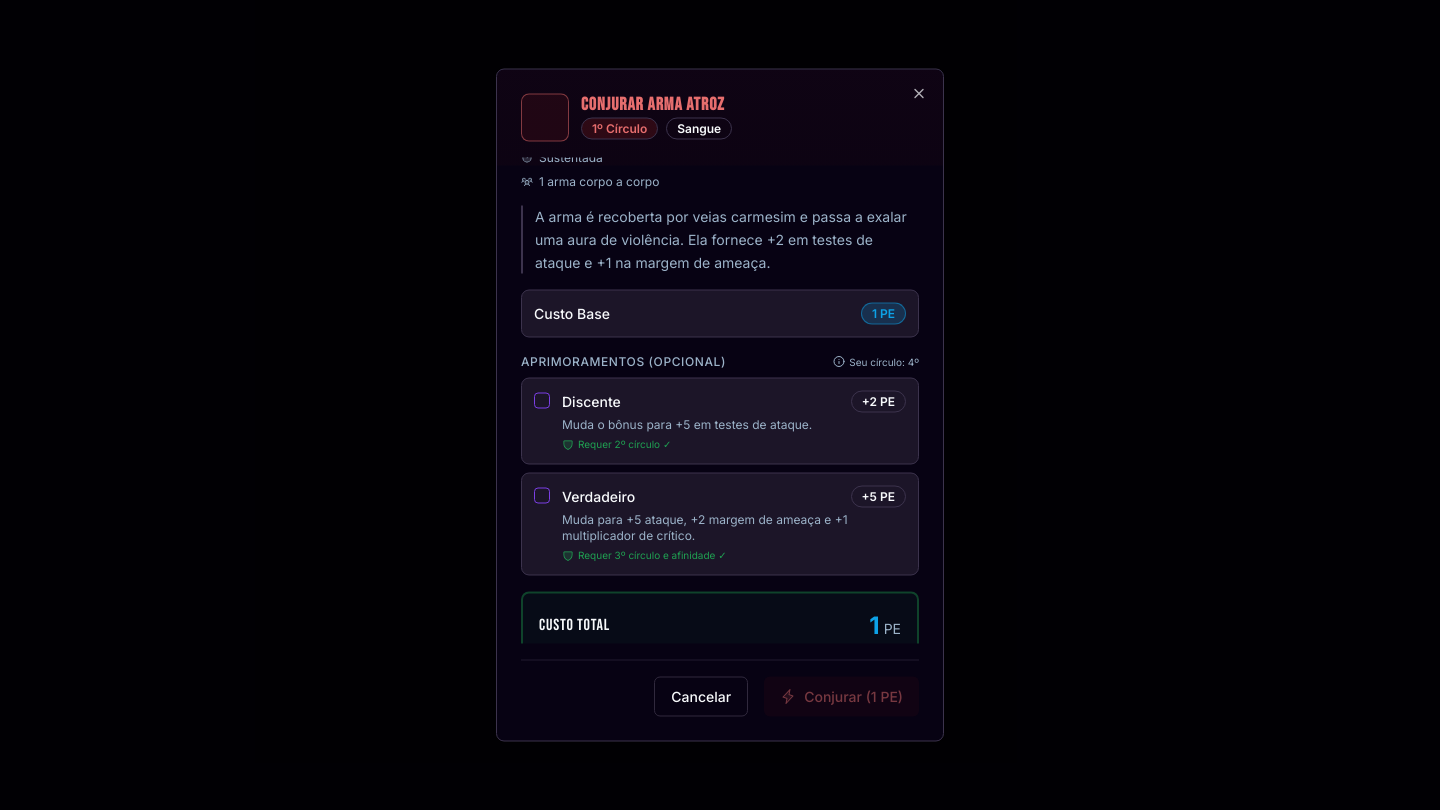
Test: a caixa de aprimoramento desktop altera a seleção apenas uma vez
The image size is (1440, 810).
(page scrolled)
Click the checkbox named "Aprimoramento Discente": (542, 401) [534,393,550,409]
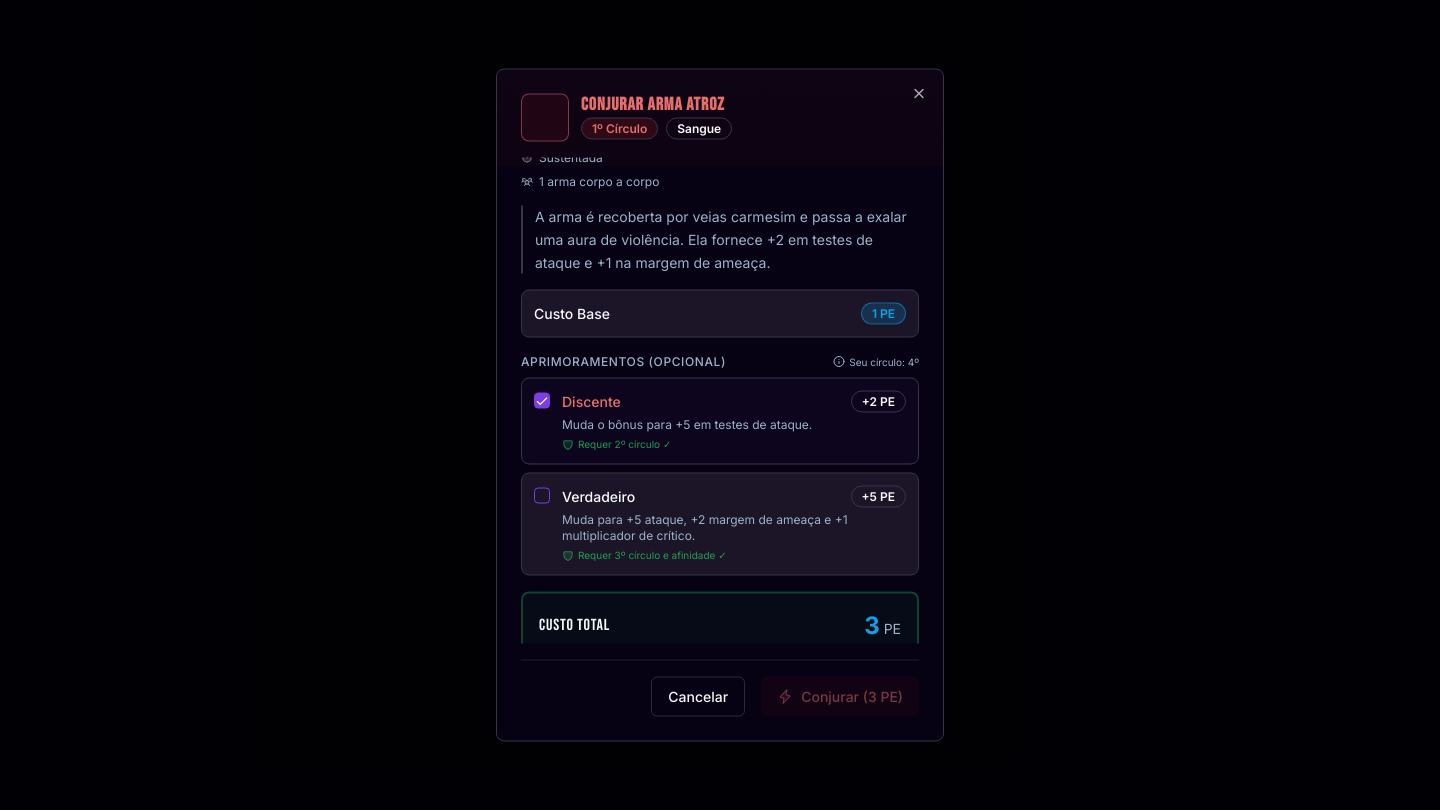
Expected: the checkbox named "Aprimoramento Discente" is checked, [534,393,550,409]
Click the checkbox named "Aprimoramento Verdadeiro": (542, 496) [534,488,550,504]
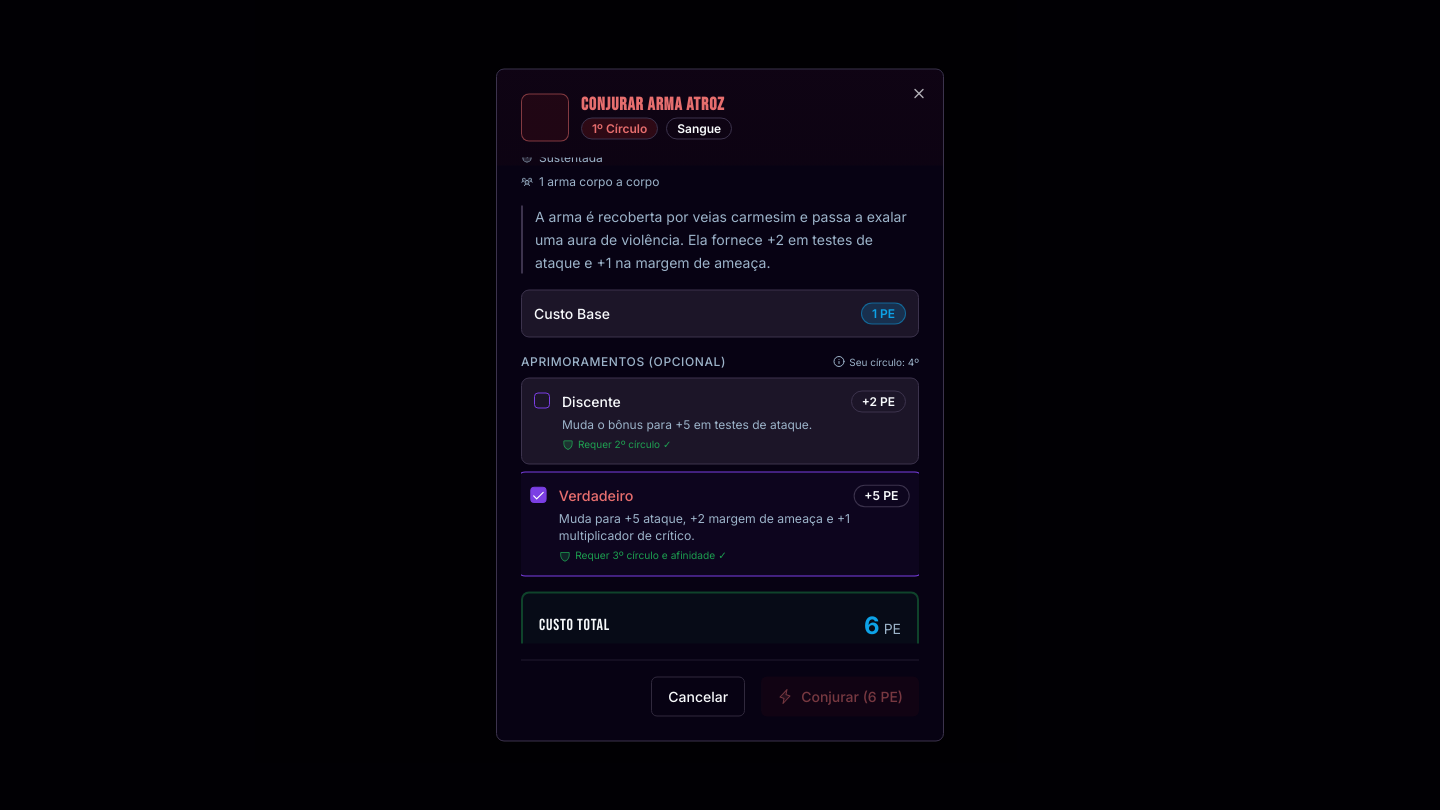
Expected: the checkbox named "Aprimoramento Verdadeiro" is checked, [530,487,547,503]
Expected: the checkbox named "Aprimoramento Discente" is not checked, [534,393,550,409]
